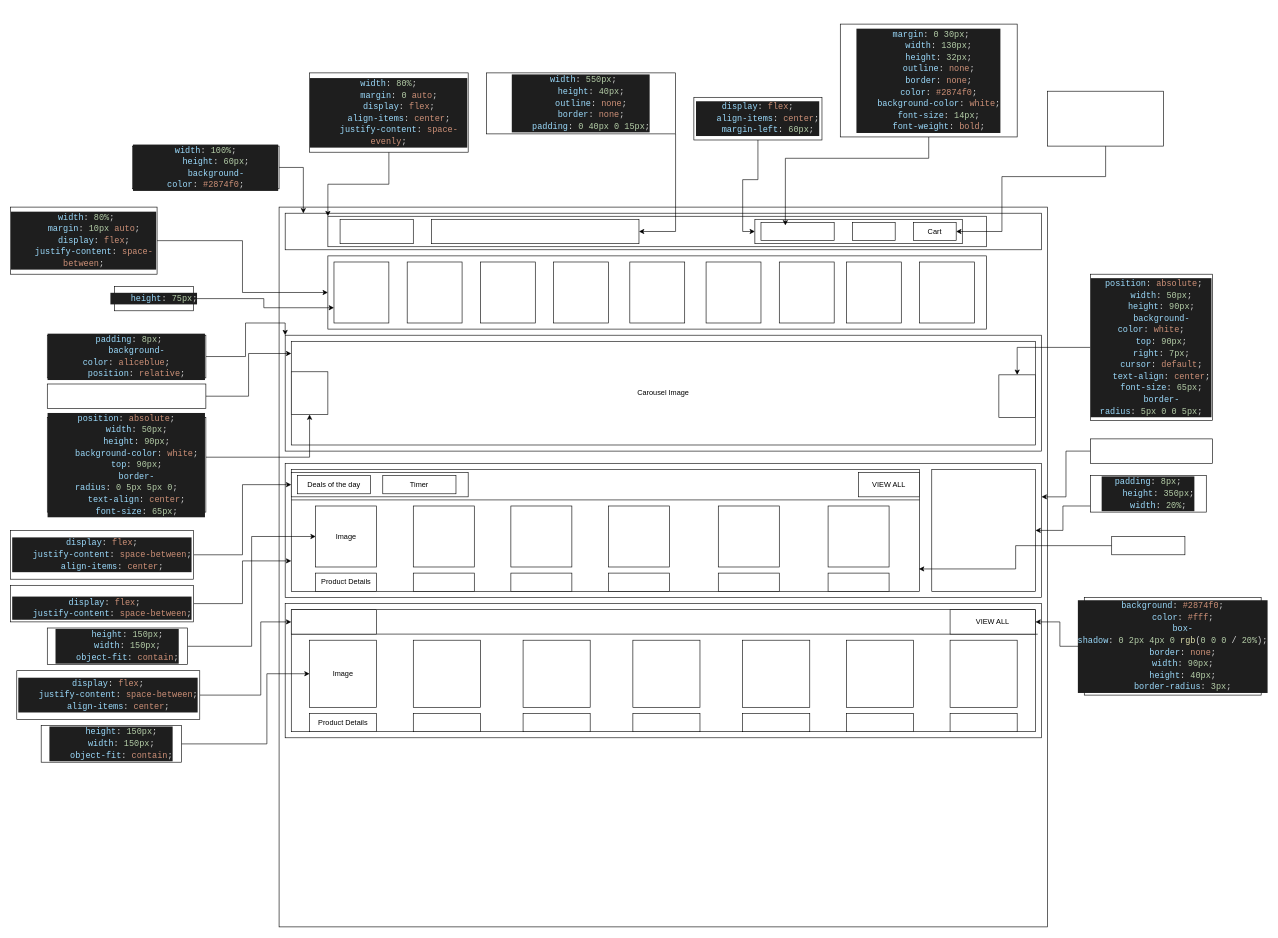
Some shapes in this 1278 by 938 pixel diagram are drawn without their labels. Here are the shapes that lost their labels. From the top down, the centre of each, then its label:
At [1105,118]: "margin : 0 25px ; color : white ; font-size : 18px ; font-weight : bold ;".
At [376,231]: "Flipkart Logo".
At [535,231]: "SearchBar".
At [797,231]: "Login".
At [873,231]: "More".
At [361,292]: "Nav Image with Title".
At [126,395]: "width : 100% ;".
At [309,392]: "Left".
At [1016,396]: "Right".
At [1151,450]: "display : flex ;".
At [1148,545]: "width : 80% ;".
At [334,621]: "Top Deals On Fashion".
